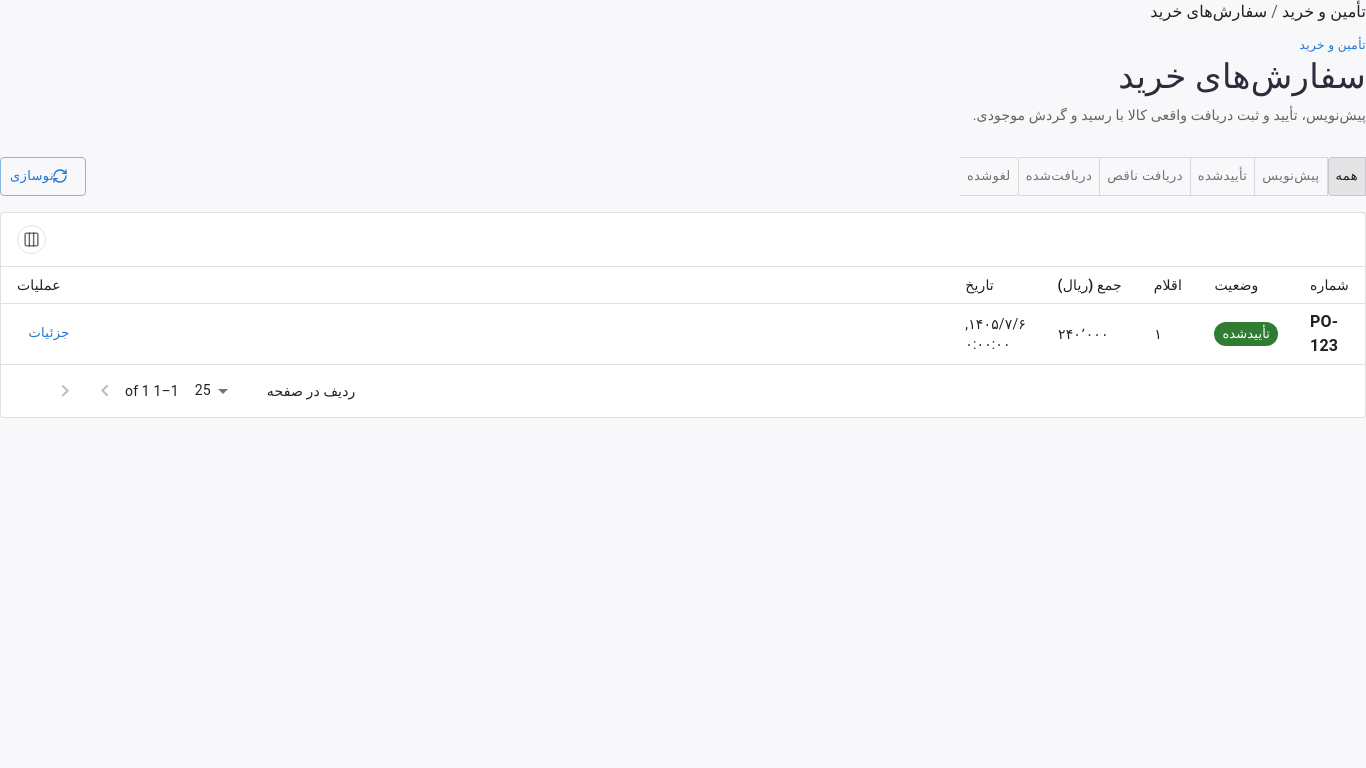
Scenario: PurchaseOrdersView › rejects an over-receipt in the operator form before issuing a mutation
Expected: the text "PO-123" is shown, x1=1310 y1=312 x2=1338 y2=355
Click the button "جزئیات". click: (49, 334)
box: x1=17 y1=318 x2=81 y2=349
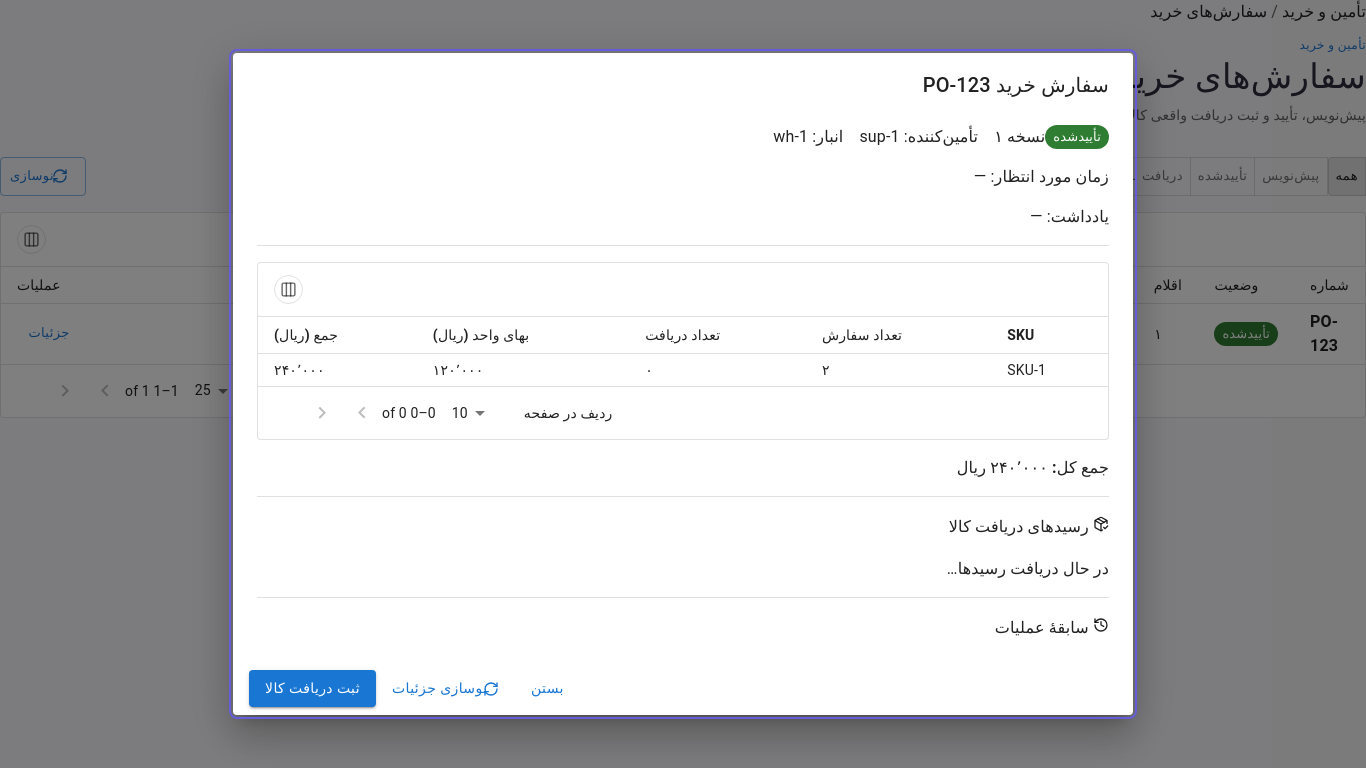
Click the button "ثبت دریافت کالا". click: (312, 689)
box: x1=249 y1=670 x2=376 y2=707
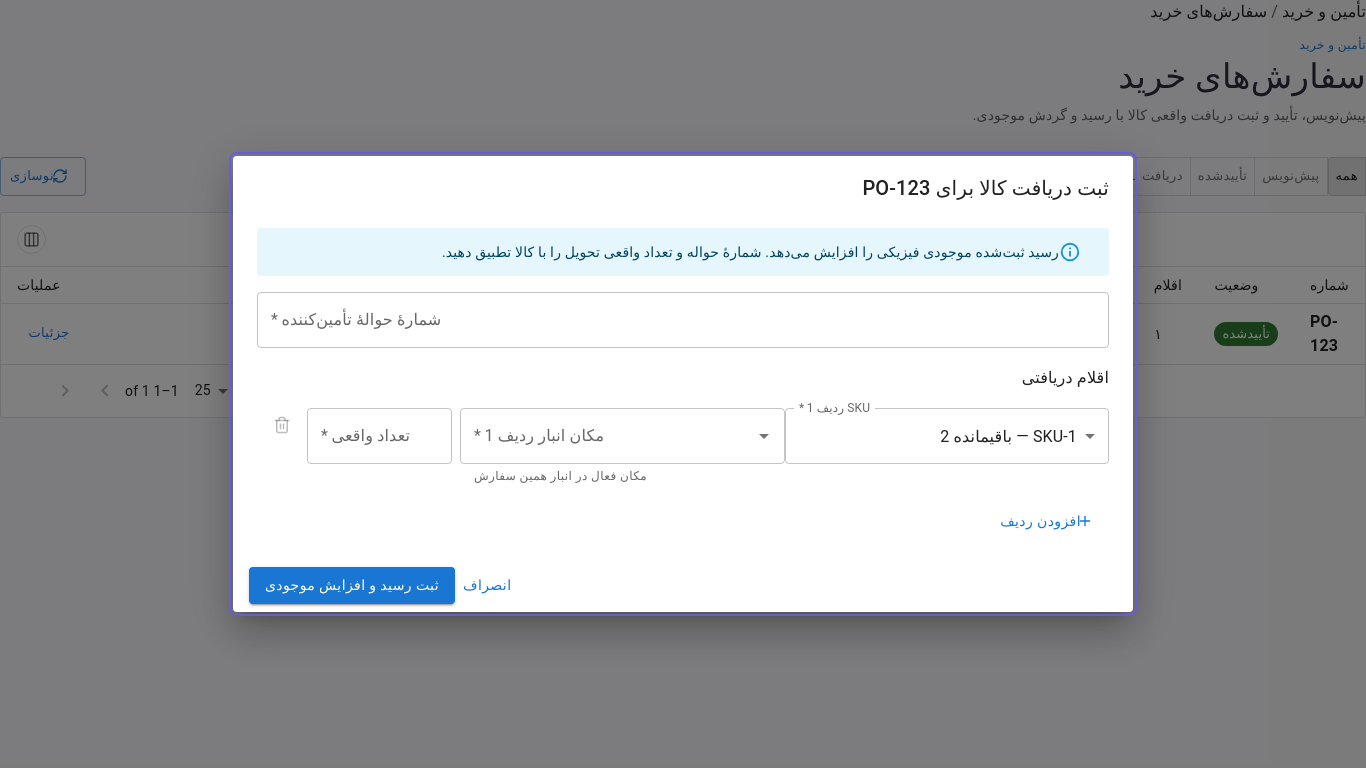
Type "DEL-99" into the field labelled "شمارهٔ حوالهٔ تأمین‌کننده". click: (683, 320)
box: x1=257 y1=292 x2=1109 y2=348
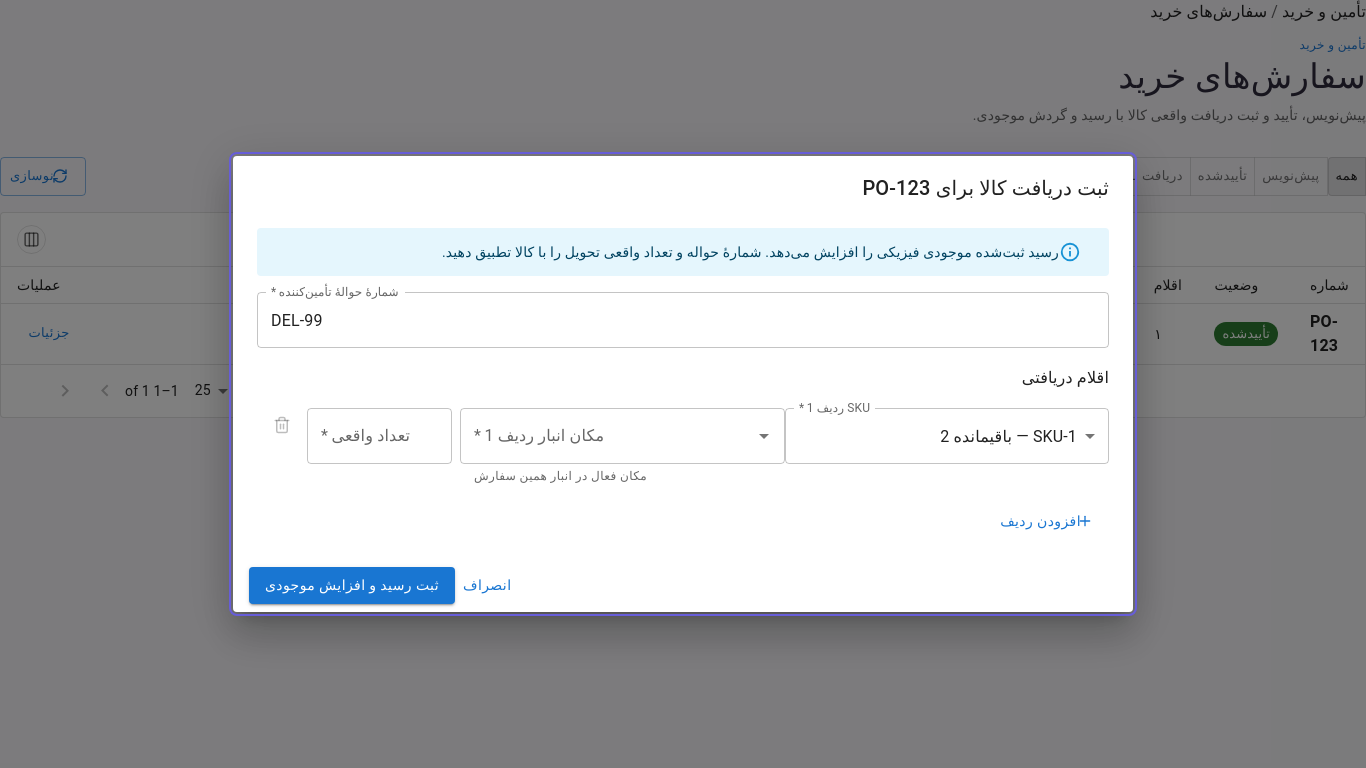
Type "3" into the number field labelled "تعداد واقعی". click: (380, 436)
box: x1=307 y1=408 x2=452 y2=464
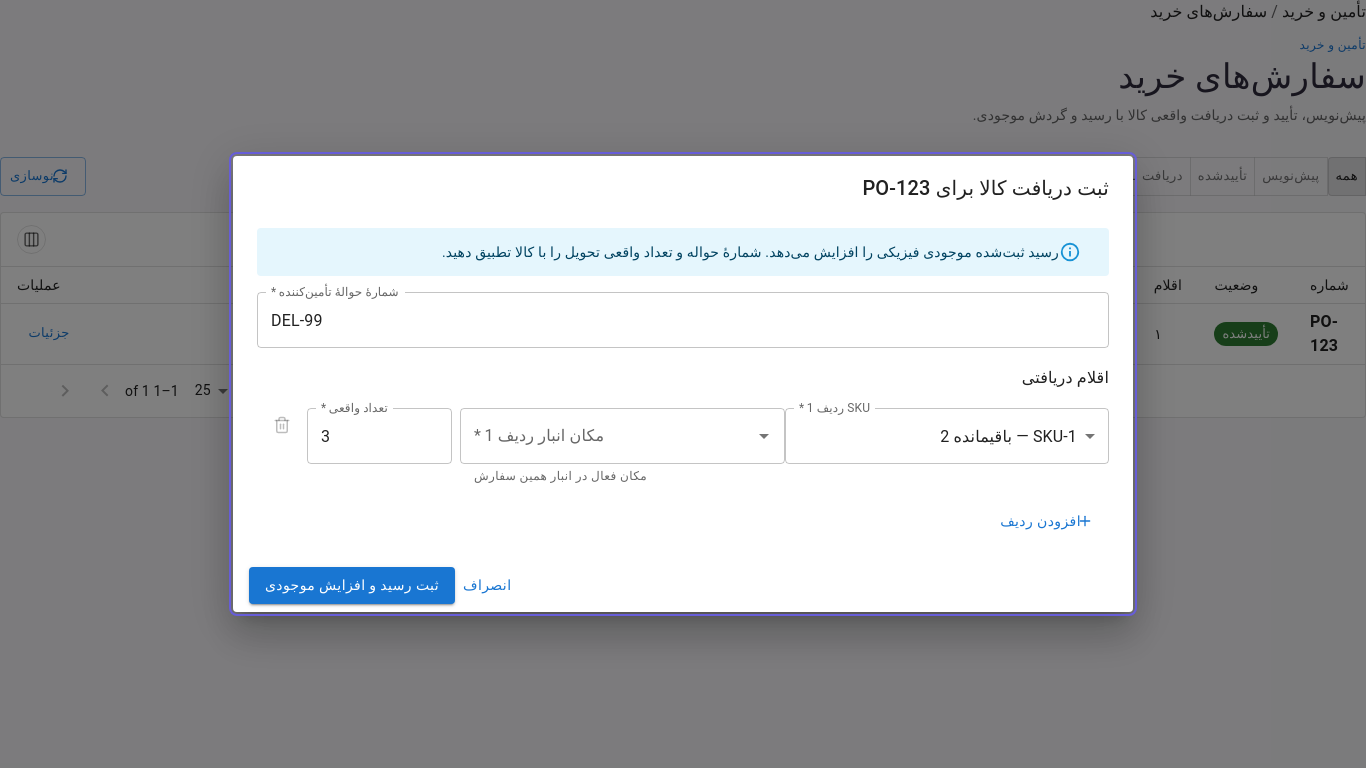
Submit the form, box x1=233 y1=156 x2=1133 y2=612
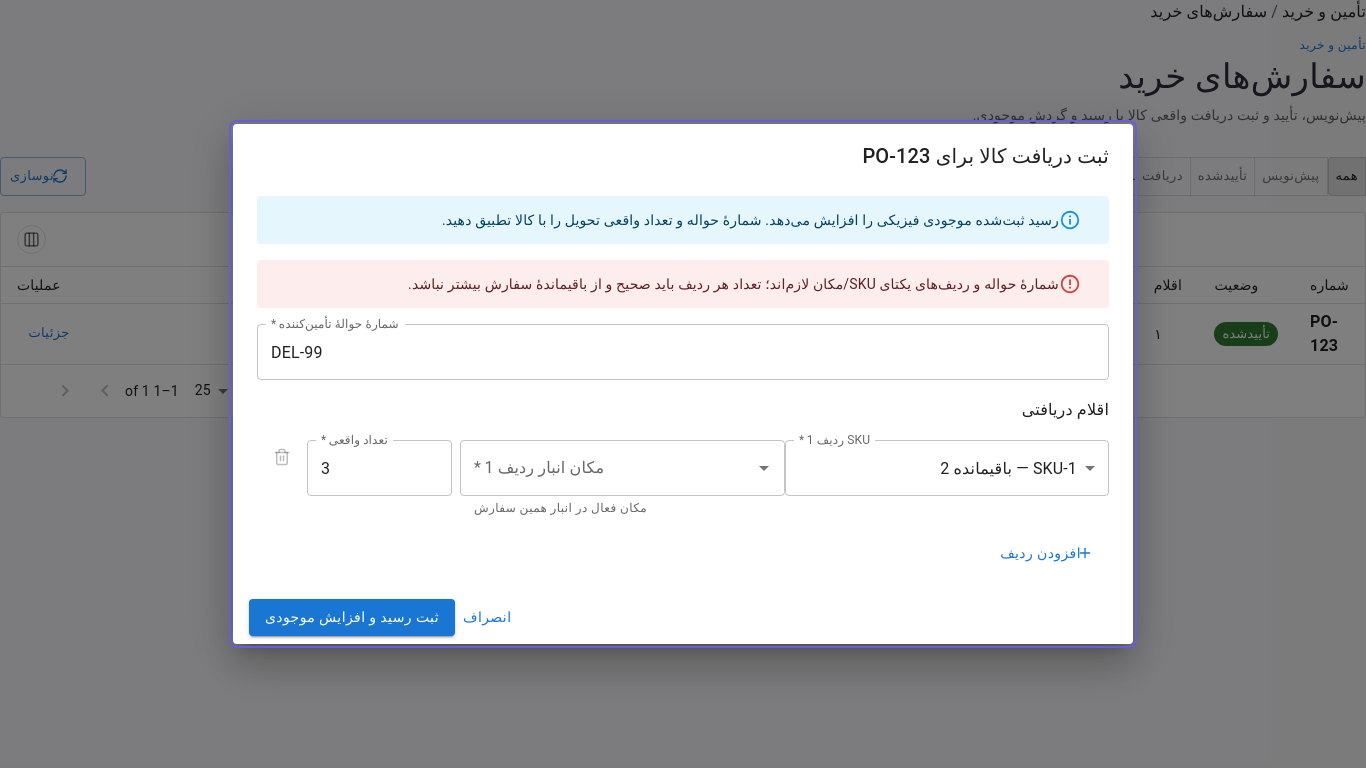
Now the dialog "ثبت دریافت کالا برای PO-123" shows "تعداد هر ردیف باید صحیح و از باقیماندهٔ سفارش بیشتر نباشد", box x1=408 y1=276 x2=1059 y2=292
